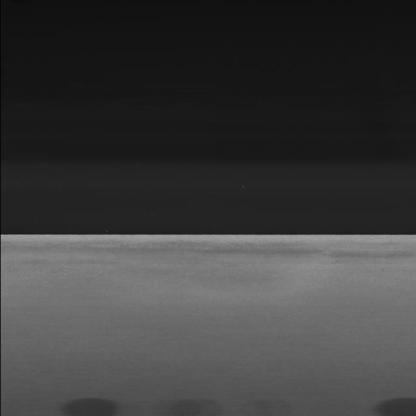oil_spot: (157, 393, 303, 416), (52, 391, 125, 416), (342, 396, 414, 416)
